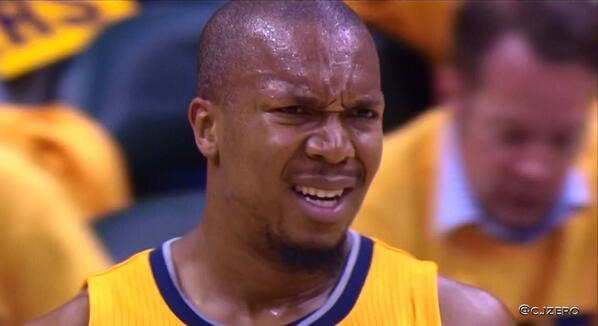confused: (224, 60, 390, 260)
